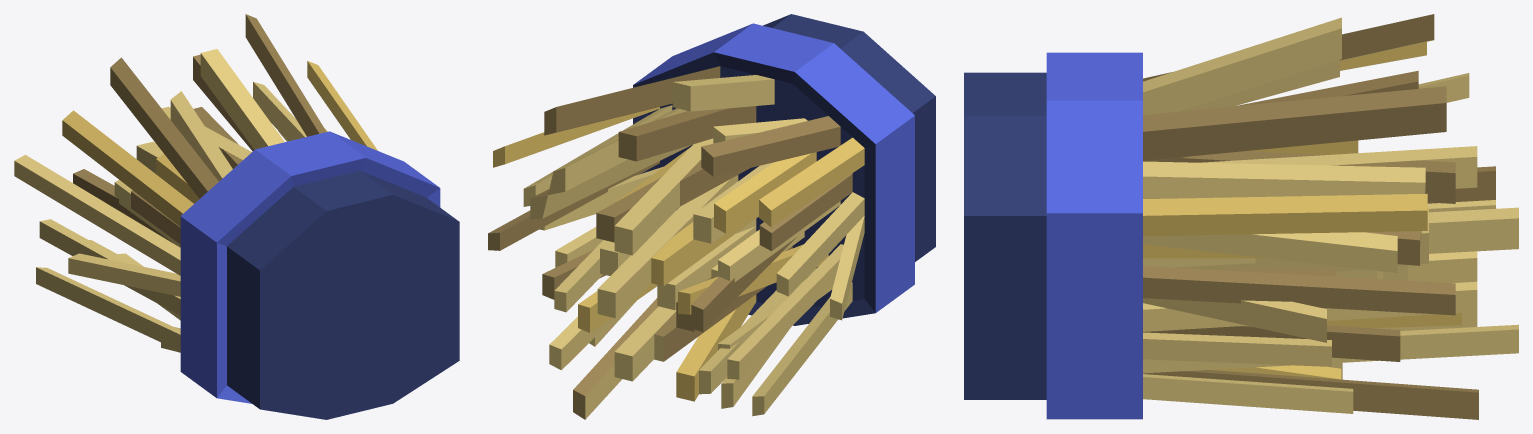
The model's file is scarecrowHand.fbx.
The picture shows the model from 3 angles, left to right: view 1: azimuth 30°, elevation 25°; view 2: azimuth 150°, elevation 25°; view 3: azimuth 270°, elevation 25°; orthographic projection. The views are drawn at different scales.
Parts seen in each view (by area): view 1: Cube; view 2: Cube; view 3: Cube.
Part boxes in pixels (x1,y1,x2,y2): Cube: [14, 14, 459, 419]; Cube: [488, 14, 935, 419]; Cube: [964, 14, 1518, 419].
Bounding box in the file's own units: 145 × 139 × 182.
